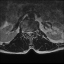CCS_normal: (29, 30, 30, 37)
LFS_severe_stenosis: (32, 30, 34, 34)
LLS_normal: (30, 30, 32, 36)
RFS_stenosis: (24, 30, 27, 34)
RLS_normal: (27, 30, 29, 36)
